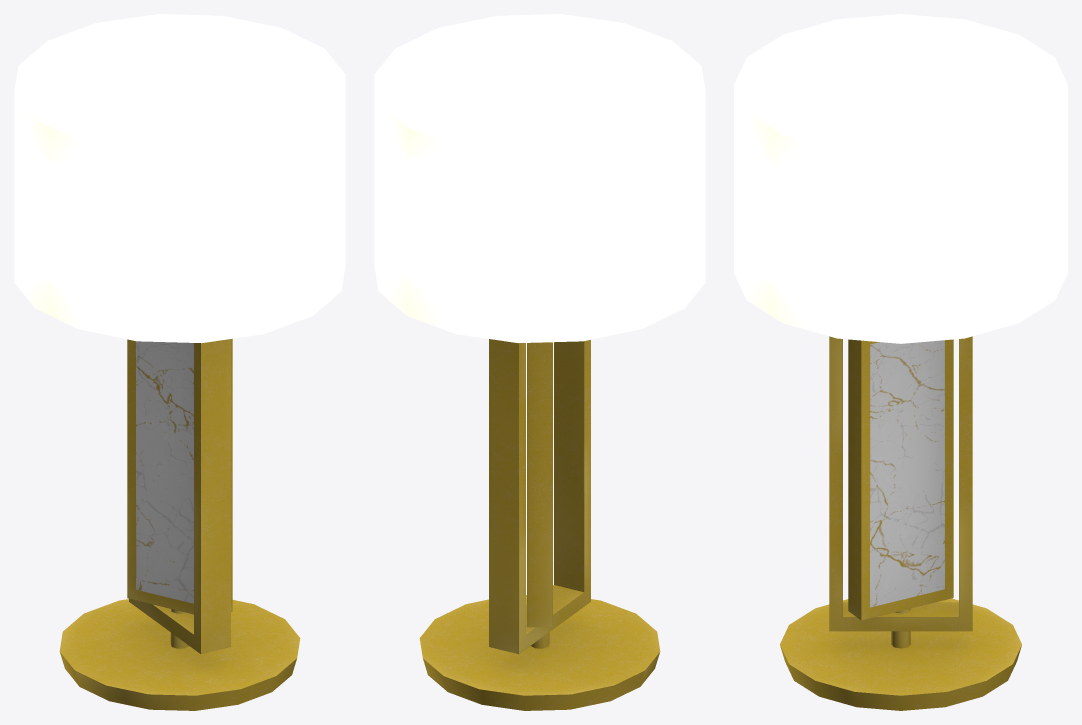
The model's file is Lamp01.fbx.
3 renders of one model, left to right at view 1: azimuth 30°, elevation 25°; view 2: azimuth 150°, elevation 25°; view 3: azimuth 270°, elevation 25°, orthographic.
Visible parts, largest first — view 1: Lamp01; view 2: Lamp01; view 3: Lamp01.
Part boxes in pixels (bbox=[...]): Lamp01: bbox=[14, 14, 345, 710]; Lamp01: bbox=[374, 14, 705, 710]; Lamp01: bbox=[734, 14, 1067, 710].
Size of the model in its own units: 3.62 by 6.9 by 3.62.
Materials: 1 (1 with a texture image).
